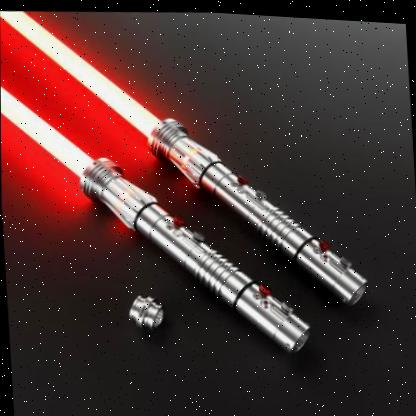sith_lightsaber: (0, 11, 380, 316), (1, 75, 322, 368)
